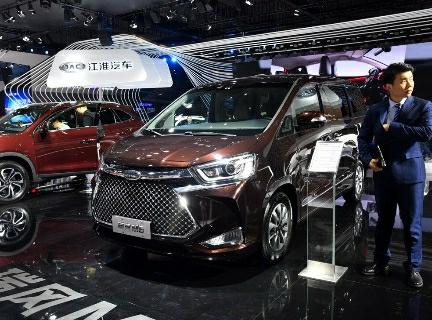car: (79, 68, 391, 276)
